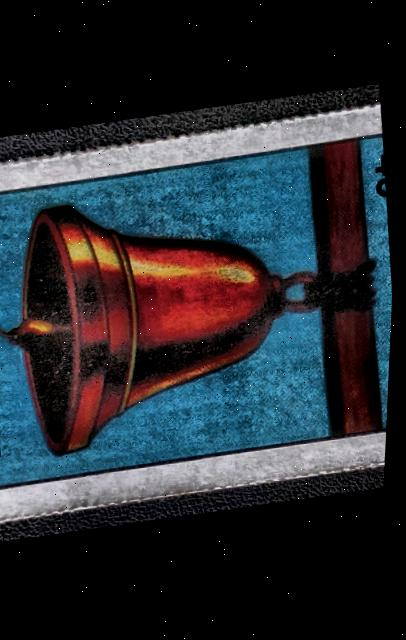La Campana: (0, 114, 402, 500)
